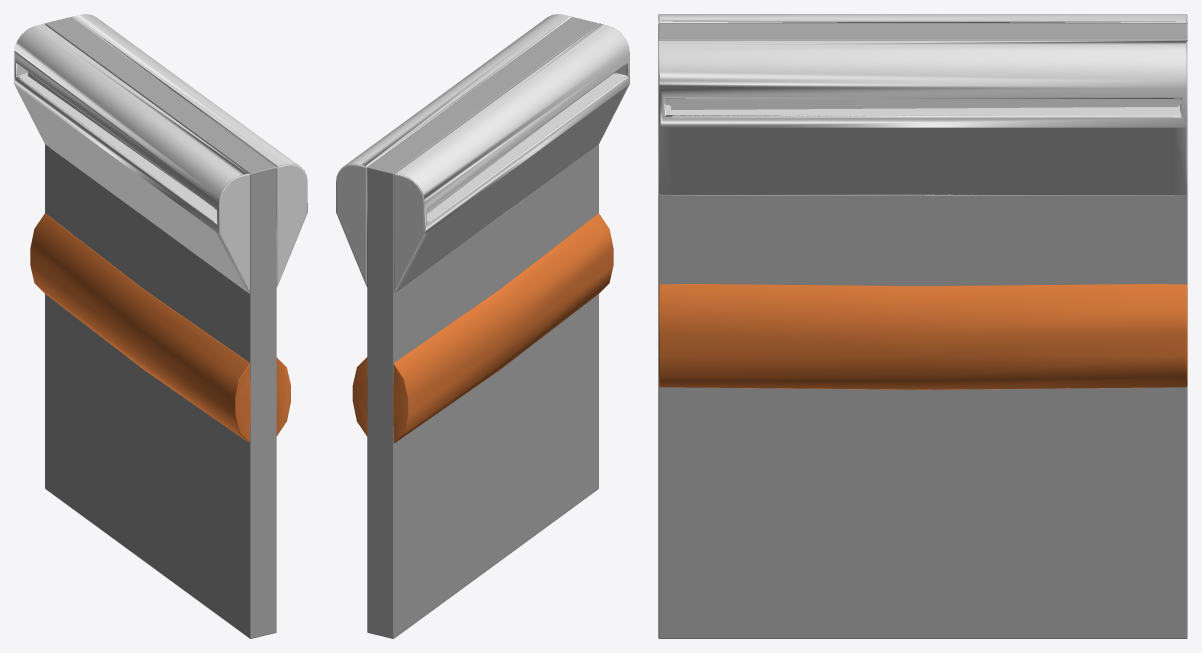
Rendered from BaseWall_Half.fbx.
The picture shows the model from 3 angles, left to right: view 1: azimuth 30°, elevation 25°; view 2: azimuth 150°, elevation 25°; view 3: azimuth 270°, elevation 25°; orthographic projection. The views are drawn at different scales.
Visible parts, largest first — view 1: Wall_Base.004; view 2: Wall_Base.004; view 3: Wall_Base.004.
Boxes of the visible parts, box(x1,y1,x2,y2) form: Wall_Base.004: box(14, 14, 307, 638); Wall_Base.004: box(336, 14, 629, 638); Wall_Base.004: box(658, 14, 1187, 638).
Size of the model in its own units: 1 by 5 by 4.
